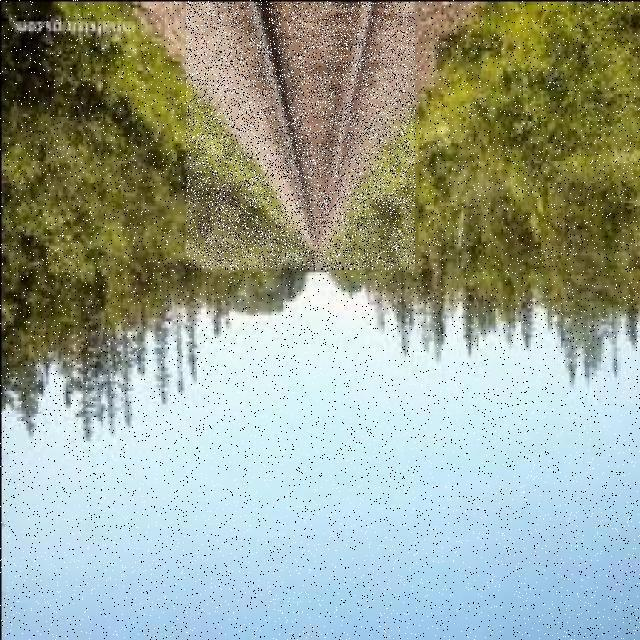rail: (187, 4, 416, 270)
